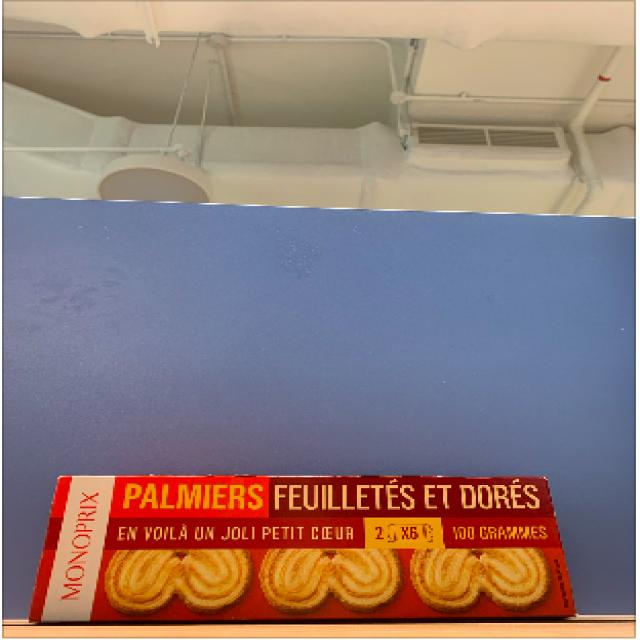object_name: (44, 481, 571, 619)
